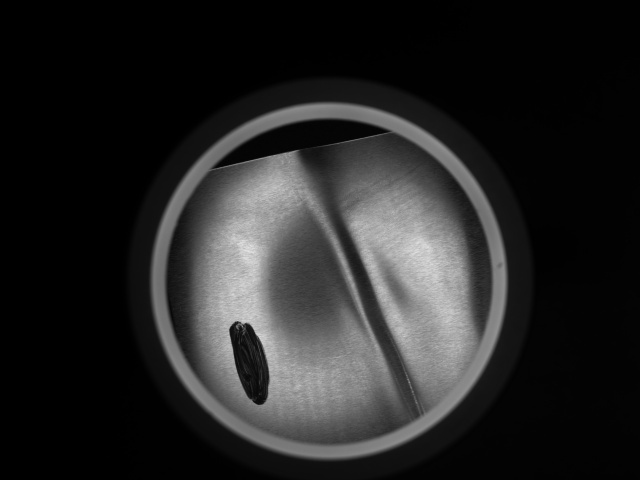zang_wu: (227, 319, 271, 407)
zhe_zhou: (208, 149, 443, 415)
